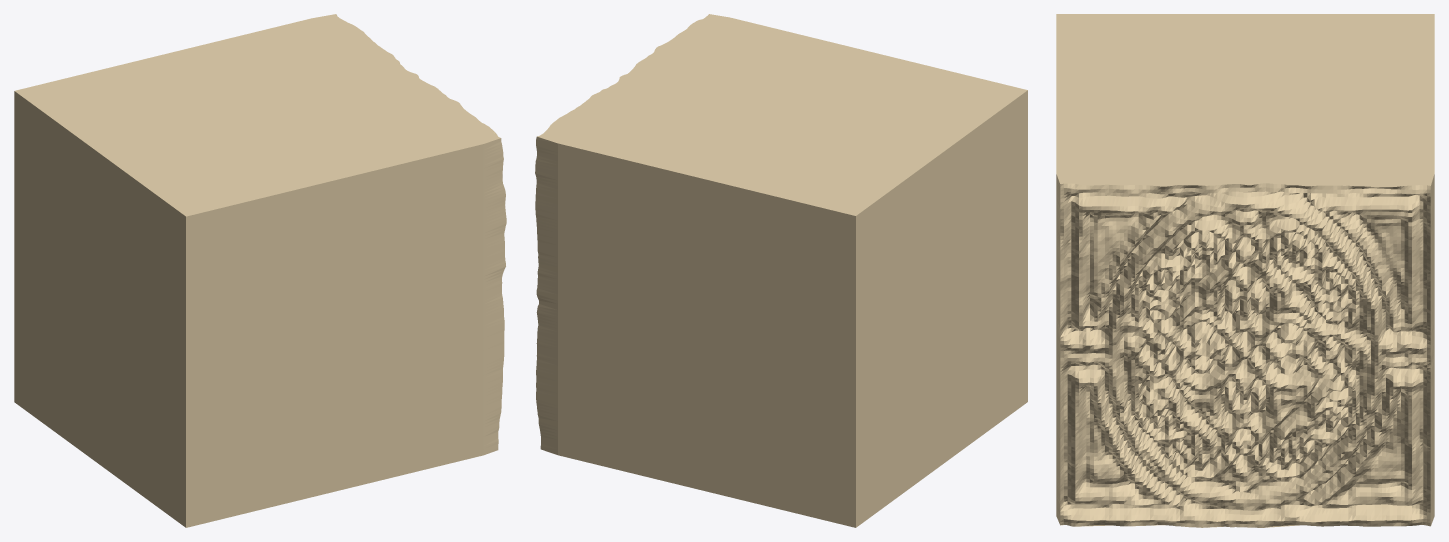
Rendered from bottom2.png - copia.obj.
3 renders of one model, left to right at view 1: azimuth 30°, elevation 25°; view 2: azimuth 150°, elevation 25°; view 3: azimuth 270°, elevation 25°, orthographic. The views are drawn at different scales.
Visible parts, largest first — view 1: Cube; view 2: Cube; view 3: Cube.
Part boxes in pixels (box(x1,y1,x2,y2)): Cube: box(14, 14, 506, 527); Cube: box(535, 14, 1027, 527); Cube: box(1056, 14, 1434, 527).
Bounding box in the file's own units: 1.1 × 1 × 1.
